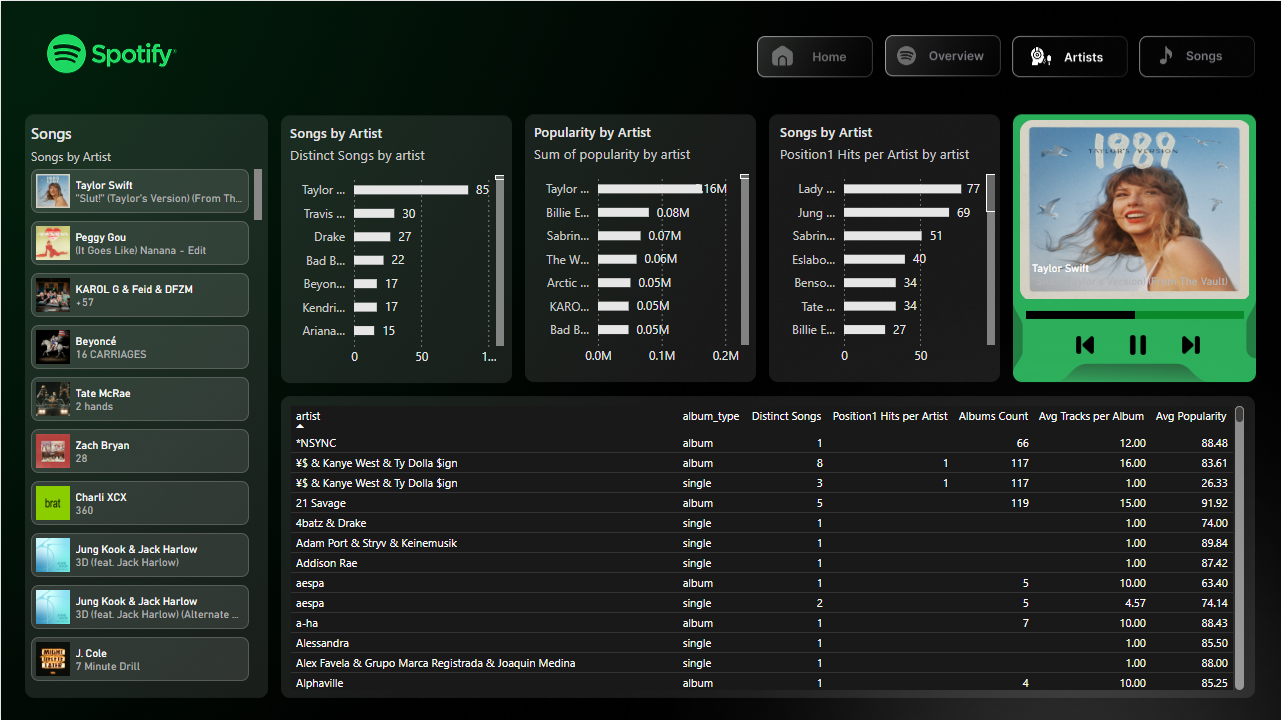

The dashboard page shown, as its layout file describes it:
{"tool":"powerbi","page":{"name":"Artist","canvas":[1280,720],"ordinal":2},"visuals":[{"type":"actionButton","box":[758.1,35.5,112.6,39.9],"z":0},{"type":"actionButton","box":[886.7,35.5,112.6,39.9],"z":1000},{"type":"actionButton","box":[1013.5,35.5,112.6,39.9],"z":2000},{"type":"actionButton","box":[1141.2,35.5,112.6,39.9],"z":3000},{"type":"advancedSlicerVisual","title":"Songs","fields":{"Values":["Top-50-World.song"]},"box":[993.1,112.6,281.1,191.5],"z":4000},{"type":"hundredPercentStackedBarChart","fields":{"Y":["_Measures.Avg Popularity","Avg(Top-50-World.popularity)"]},"box":[1019.7,281.1,227.9,61.2],"z":5000},{"type":"image","box":[1116.8,329,40,30],"z":6000},{"type":"image","box":[1064,329,40,30],"z":7000},{"type":"image","box":[1169.6,329,40,30],"z":8000},{"type":"shape","box":[1013.5,98.4,240.3,282],"z":9000},{"type":"clusteredBarChart","title":"Songs by Artist","fields":{"Category":["Top-50-World.artist"],"Y":["_Measures.Distinct Songs"]},"box":[283.6,122.5,224.7,251.3],"z":10000},{"type":"clusteredBarChart","title":"Popularity by Artist","fields":{"Y":["Sum(Top-50-World.popularity)"],"Category":["Top-50-World.artist"]},"box":[527.6,122.4,225.2,250.9],"z":11000},{"type":"clusteredBarChart","title":"Songs by Artist","fields":{"Category":["Top-50-World.artist"],"Y":["_Measures.Position1 Hits per Artist"]},"box":[774.1,122.4,225.2,250.9],"z":12000},{"type":"advancedSlicerVisual","title":"Songs","fields":{"Values":["Top-50-World.song"]},"box":[24.8,122.4,241.2,571.9],"z":13000},{"type":"tableEx","fields":{"Values":["Top-50-World.artist","Top-50-World.album_type","_Measures.Distinct Songs","_Measures.Position1 Hits per Artist","_Measures.Albums Count","_Measures.Avg Tracks per Album","_Measures.Avg Popularity"]},"box":[283.6,400,964.5,294],"z":14000}]}

Visuals, with their boxes in screenshot pixels (x1, y1, x2, y2), scaled from the page's 1280x720 canvas onto the 1281x720 screenshot:
actionButton: <bbox>759, 36, 871, 75</bbox>
actionButton: <bbox>887, 36, 1000, 75</bbox>
actionButton: <bbox>1014, 36, 1127, 75</bbox>
actionButton: <bbox>1142, 36, 1255, 75</bbox>
"Songs" advancedSlicerVisual: <bbox>994, 113, 1275, 304</bbox>
hundredPercentStackedBarChart - _Measures.Avg Popularity x Avg(Top-50-World.popularity): <bbox>1020, 281, 1249, 342</bbox>
image: <bbox>1118, 329, 1158, 359</bbox>
image: <bbox>1065, 329, 1105, 359</bbox>
image: <bbox>1171, 329, 1211, 359</bbox>
shape: <bbox>1014, 98, 1255, 380</bbox>
"Songs by Artist" clusteredBarChart: <bbox>284, 122, 509, 374</bbox>
"Popularity by Artist" clusteredBarChart: <bbox>528, 122, 753, 373</bbox>
"Songs by Artist" clusteredBarChart: <bbox>775, 122, 1000, 373</bbox>
"Songs" advancedSlicerVisual: <bbox>25, 122, 266, 694</bbox>
tableEx - Top-50-World.artist x Top-50-World.album_type: <bbox>284, 400, 1249, 694</bbox>
